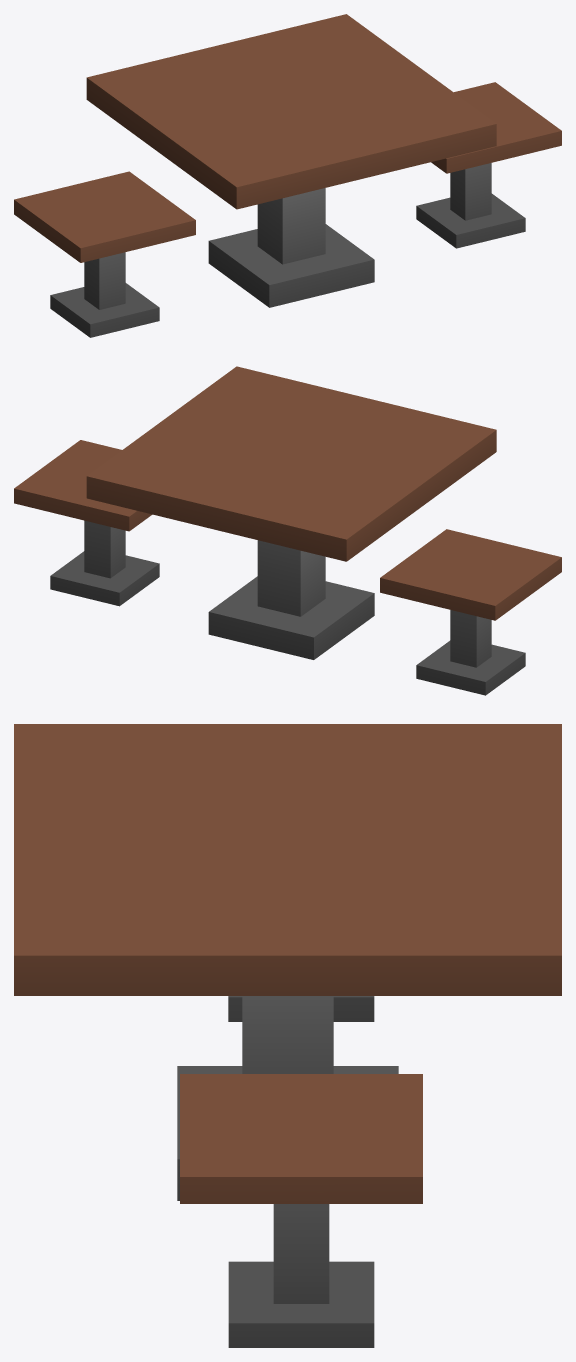
The model's file is table.fbx.
3 renders of one model, top to bottom at view 1: azimuth 30°, elevation 25°; view 2: azimuth 150°, elevation 25°; view 3: azimuth 270°, elevation 25°, orthographic. The views are drawn at different scales.
Parts seen in each view (by area): view 1: table; view 2: table; view 3: table.
Boxes of the visible parts, x1,y1,x2,y2 form: table: [14, 14, 561, 337]; table: [14, 366, 561, 695]; table: [14, 724, 561, 1347].
Size of the model in its own units: 231 by 79.07 by 125.
Materials: 1 (1 with a texture image).
